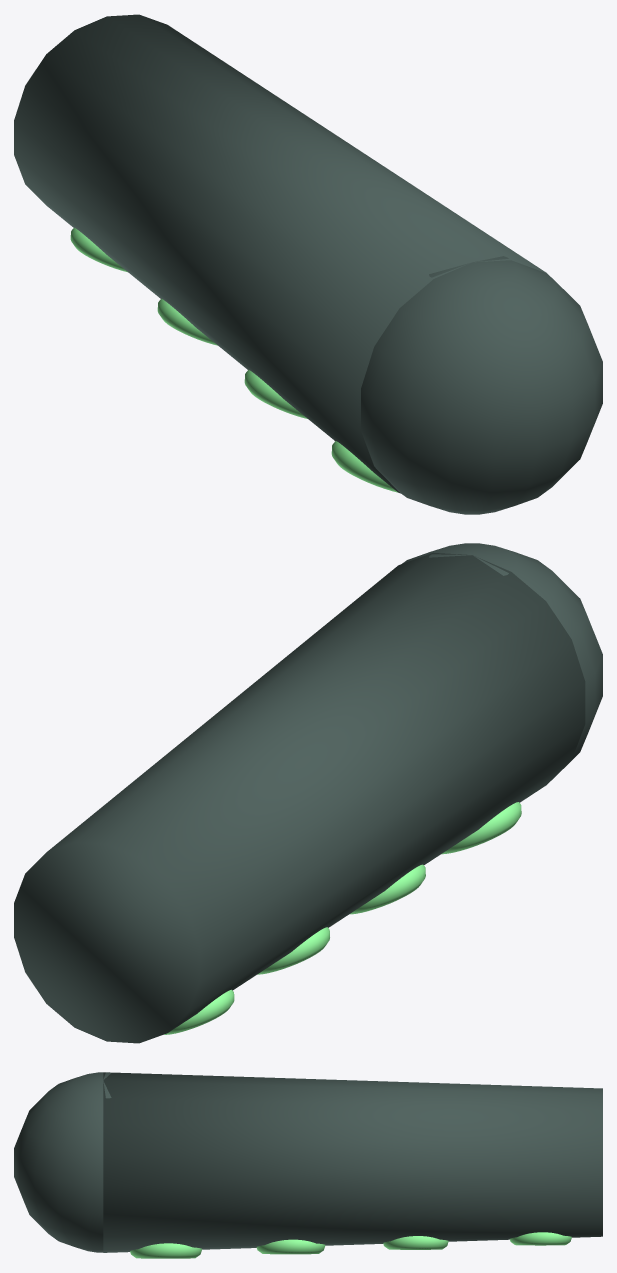
Rendered from seg4.glb.
3 renders of one model, top to bottom at view 1: azimuth 30°, elevation 25°; view 2: azimuth 150°, elevation 25°; view 3: azimuth 270°, elevation 25°, orthographic. The views are drawn at different scales.
Parts seen in each view (by area): view 1: tentacle, sucker; view 2: tentacle, sucker; view 3: tentacle, sucker.
Boxes of the visible parts, x1,y1,x2,y2 form: tentacle: (14,14,602,514); sucker: (70,227,397,492); tentacle: (14,543,602,1043); sucker: (164,802,521,1034); tentacle: (14,1072,602,1252); sucker: (130,1232,571,1258).
Size of the model in its own units: 0.3039 by 0.3234 by 1.
